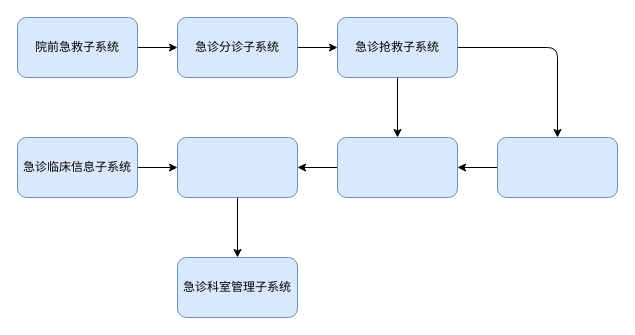
Image size: 635x335. Some labels were removed from this diagram. Here are the shapes that lost their labels. From the top down, the centre of each, then its label:
the point at 237,167: 急诊医护一体化工作台子系统
the point at 397,167: EICU子系统
the point at 557,167: 急诊移动输液子系统
